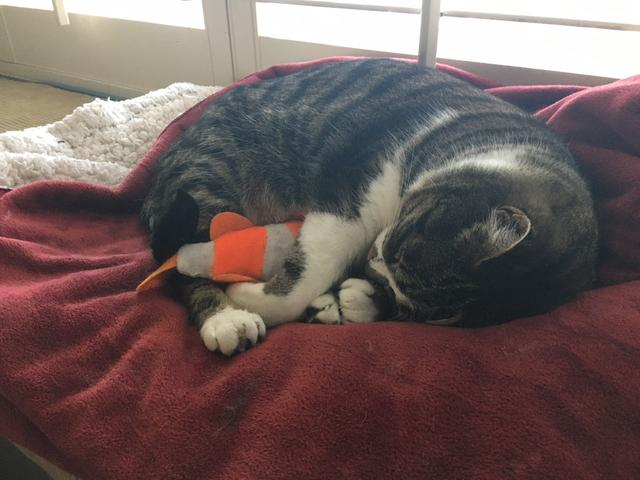clownfish: (132, 208, 308, 306)
playdoh: (129, 60, 598, 352)
